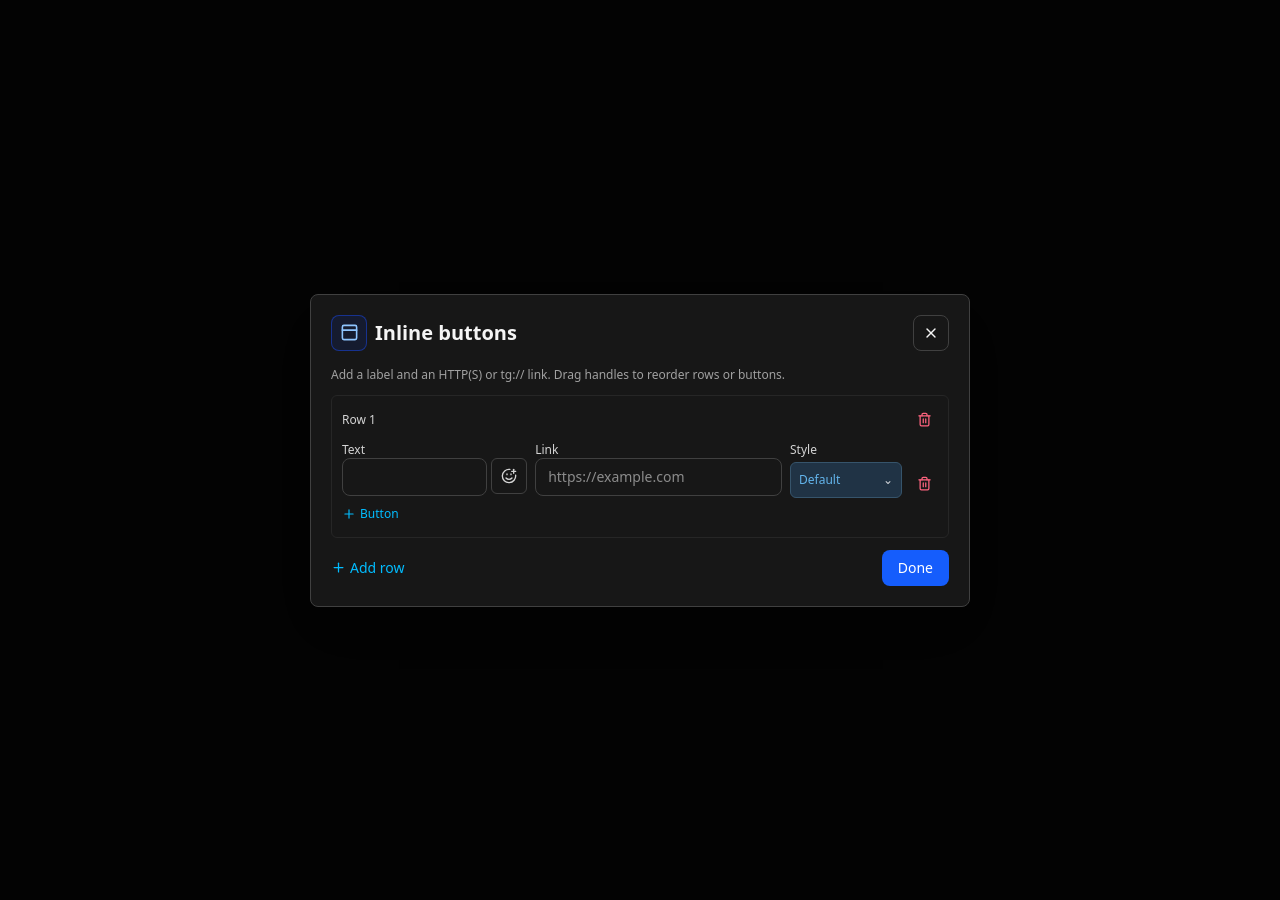
TelegramInlineKeyboardEditor › shows a link validation error as soon as a button has a label
In the field labelled "Text": (415, 476) [342,458,487,496], type "Open"
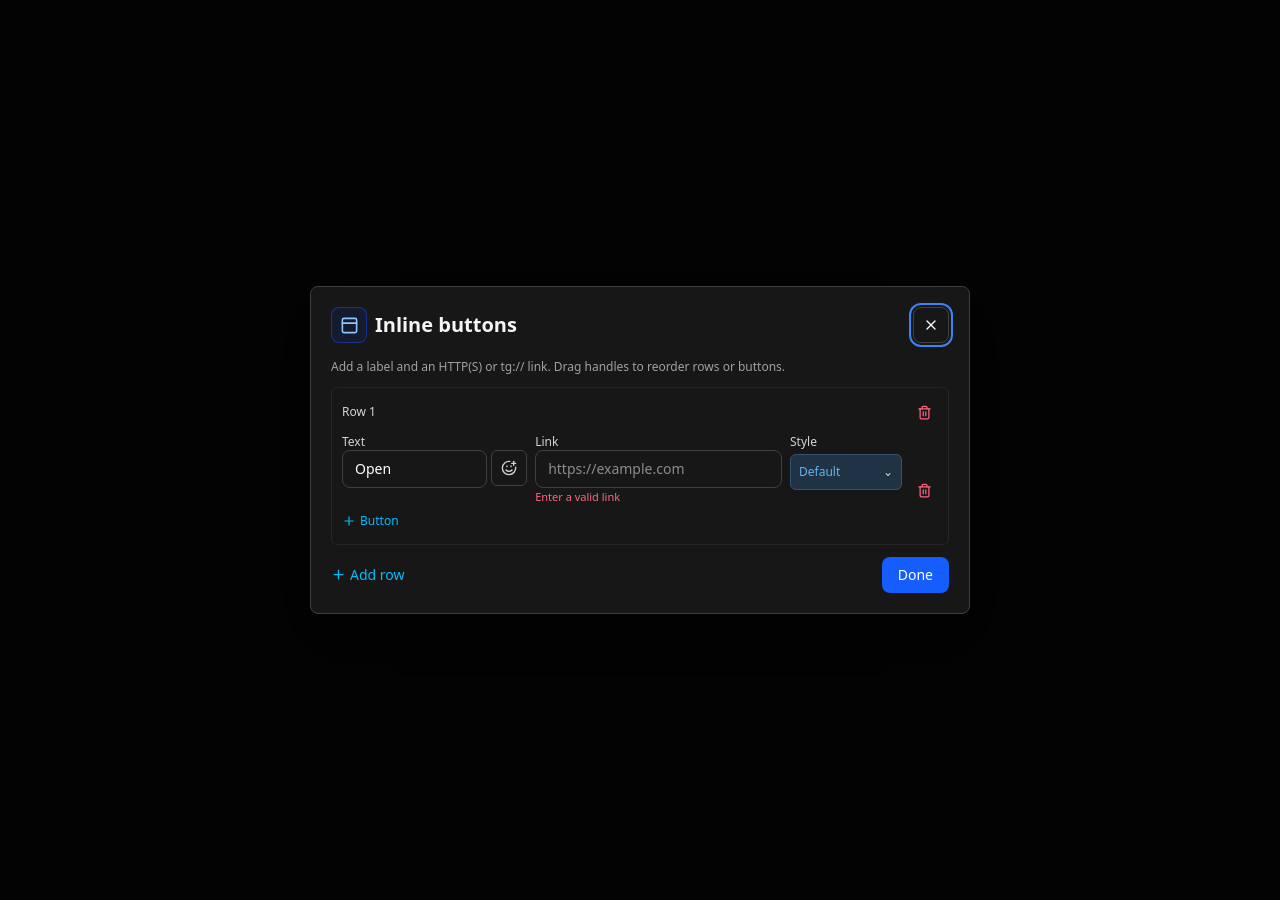
Now the text "Enter a valid link" is shown, box [535,489,620,504]
